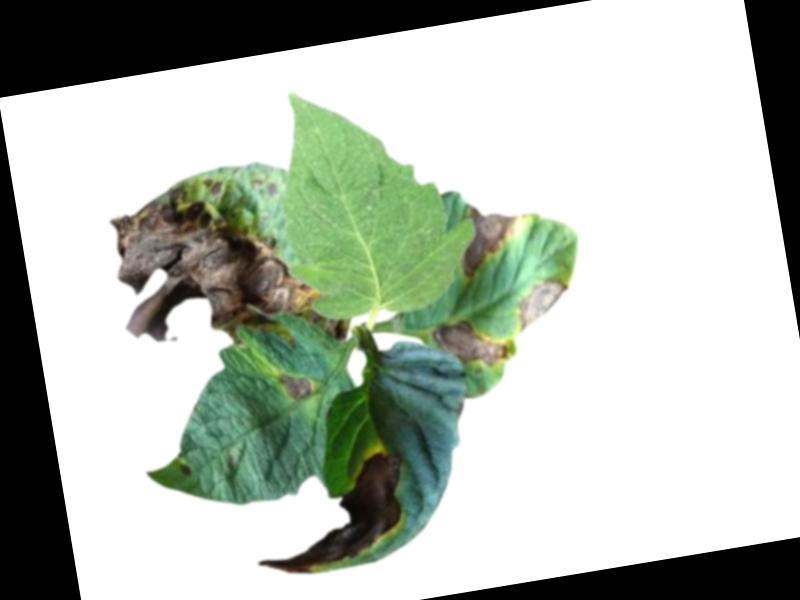Early_blight: (103, 161, 327, 362), (242, 444, 421, 580), (451, 198, 530, 279), (430, 308, 512, 374), (512, 272, 575, 333), (278, 369, 317, 403), (325, 312, 351, 344), (180, 460, 193, 476)
